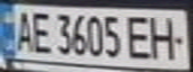0: (84, 11, 106, 57)
3: (51, 10, 72, 56)
5: (103, 11, 127, 60)
6: (69, 11, 87, 57)
A: (9, 7, 36, 53)
E: (124, 12, 157, 61), (27, 8, 54, 55)
H: (142, 12, 190, 61)
